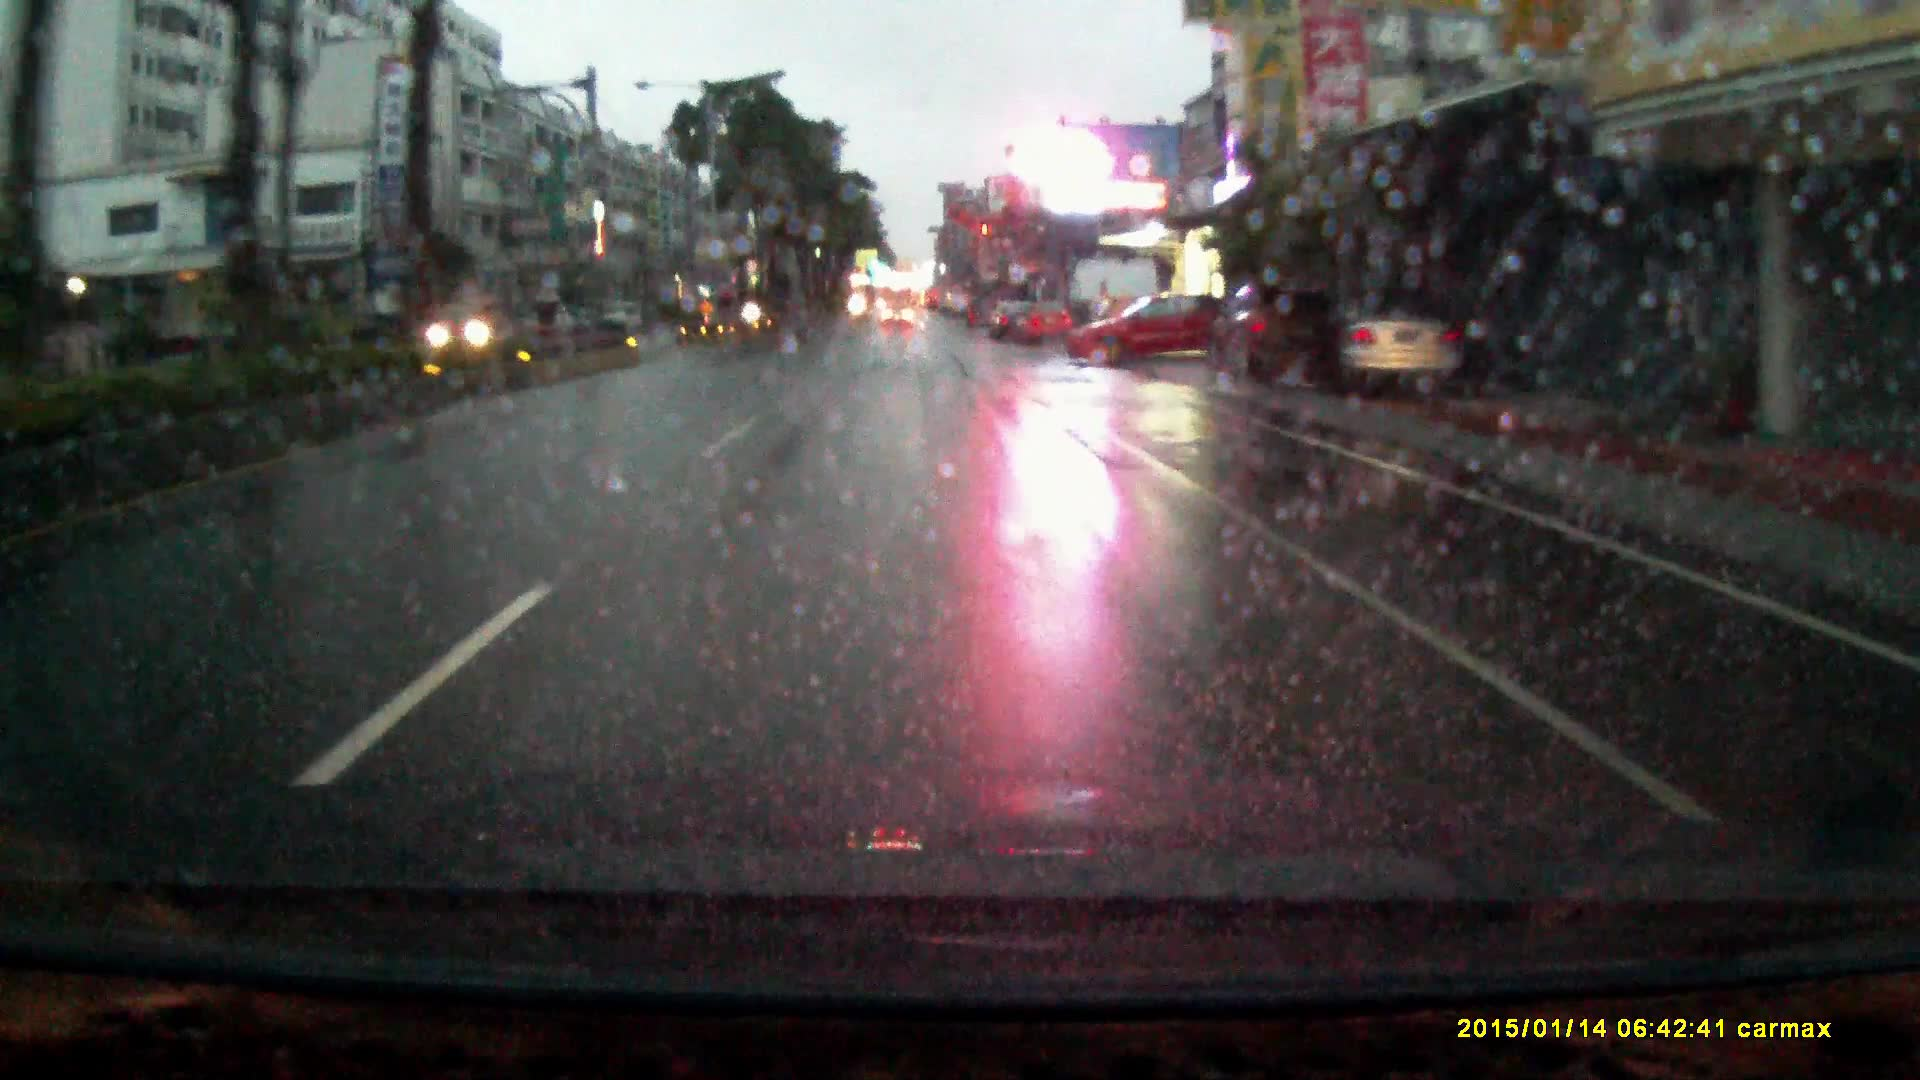vehicle: (1311, 293, 1470, 400), (1207, 276, 1346, 381), (1062, 286, 1226, 364), (426, 294, 518, 349), (1011, 295, 1073, 343), (986, 298, 1035, 342), (884, 299, 915, 326)
